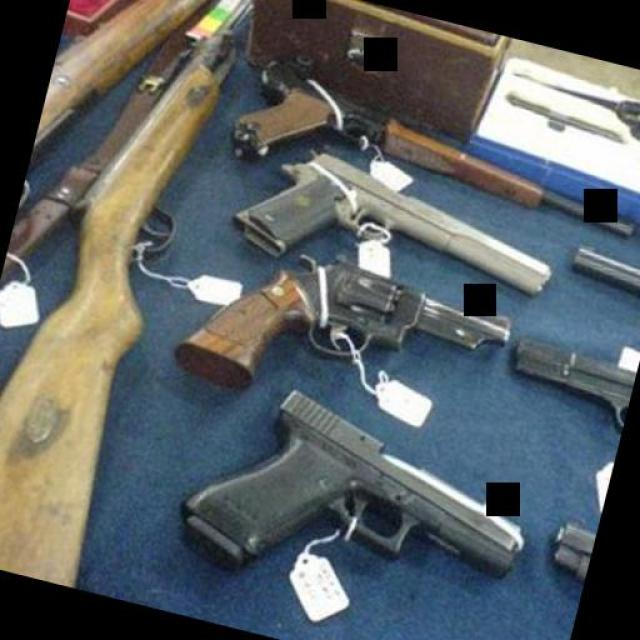gun: (155, 365, 553, 634), (168, 222, 522, 452), (212, 125, 572, 326)
